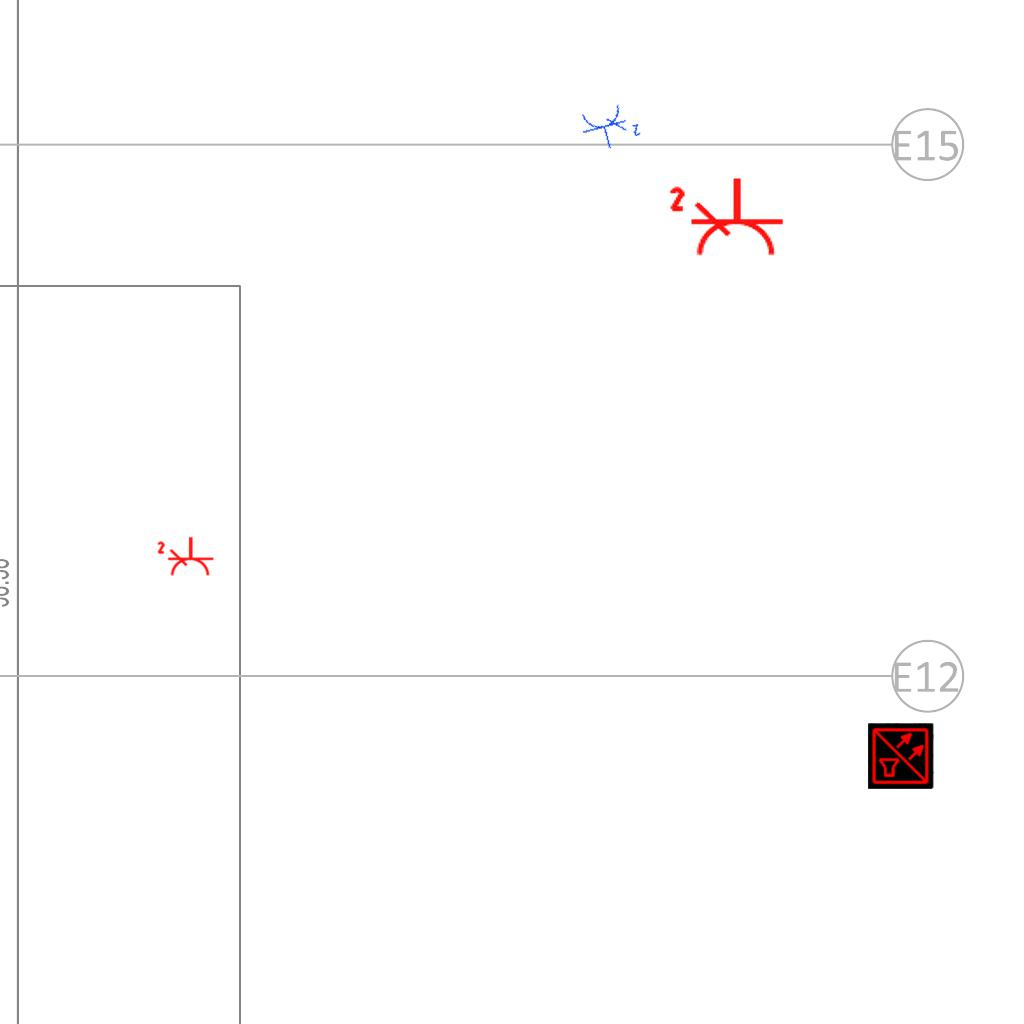OKW_Multisensormelder_(Kombination_optischer_Rauch-Kahlenmonoxid_Waerme-Melder): (868, 723, 934, 789)
Schukosteckdose_mehrfach: (667, 172, 788, 260), (576, 96, 646, 156), (156, 534, 216, 578)
